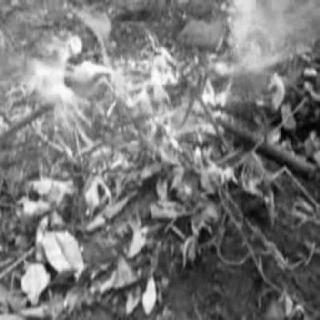Fire: (7, 6, 250, 184)
